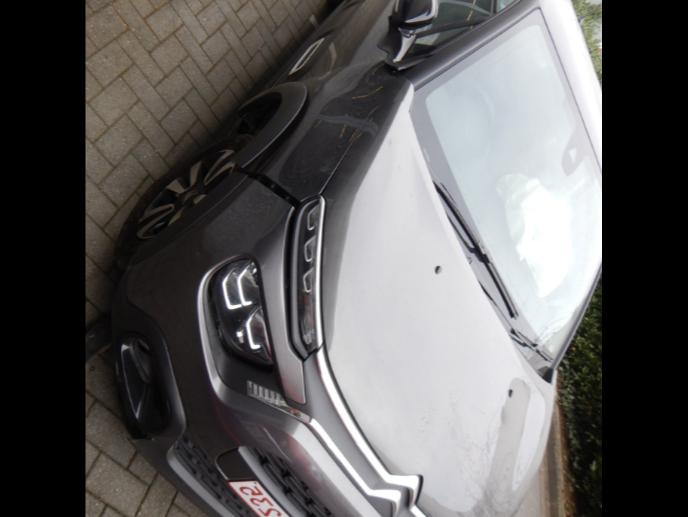Broken part: (230, 84, 312, 362), (376, 16, 432, 76)
Dent: (328, 60, 398, 98)
